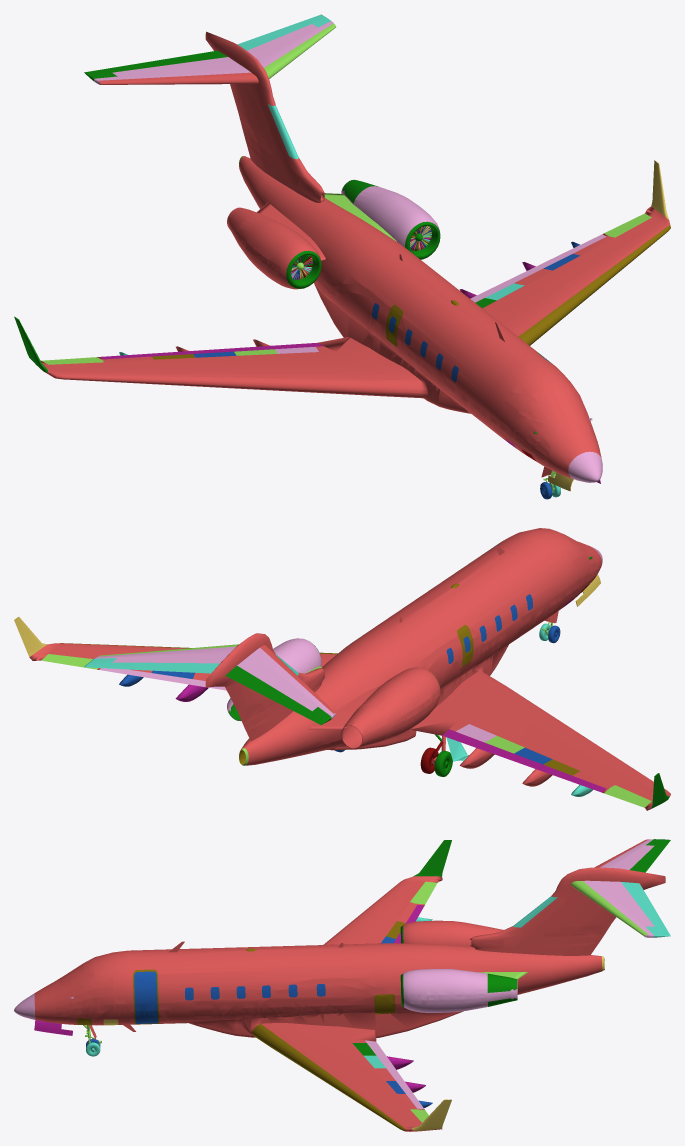
The model's file is lear_300.obj.
3 views of the same model, one above another, from view 1: azimuth 30°, elevation 25°; view 2: azimuth 150°, elevation 25°; view 3: azimuth 270°, elevation 25° (orthographic). The views are drawn at different scales.
Visible parts, largest first — view 1: Group_001, Group_021, Group_033, Group_080, Group_016, Group_097, Group_011, Group_025, Group_020, Group_019, Group_010, Group_034 (+3 smaller); view 2: Group_001, Group_021, Group_080, Group_016, Group_019, Group_034, Group_097, Group_017, Group_082, Group_078, Group_023, Group_012 (+5 smaller); view 3: Group_001, Group_021, Group_097, Group_016, Group_080, Group_025, Group_007, Group_011, Group_017, Group_012, Group_018, Group_032 (+4 smaller).
Boxes of the visible parts, bbox=[...] form: Group_001: bbox=[205, 31, 601, 478]; Group_021: bbox=[41, 206, 670, 380]; Group_033: bbox=[54, 374, 420, 397]; Group_080: bbox=[227, 210, 321, 289]; Group_016: bbox=[94, 21, 333, 84]; Group_097: bbox=[341, 179, 440, 247]; Group_011: bbox=[504, 379, 583, 426]; Group_025: bbox=[518, 225, 670, 345]; Group_020: bbox=[98, 72, 258, 84]; Group_019: bbox=[84, 50, 227, 81]; Group_010: bbox=[568, 451, 602, 482]; Group_034: bbox=[100, 343, 323, 359]; Group_001: bbox=[205, 528, 601, 765]; Group_021: bbox=[29, 643, 670, 810]; Group_080: bbox=[341, 667, 440, 748]; Group_016: bbox=[94, 646, 335, 718]; Group_019: bbox=[225, 666, 331, 724]; Group_034: bbox=[443, 729, 606, 792]; Group_097: bbox=[227, 638, 321, 720]; Group_017: bbox=[84, 658, 219, 673]; Group_082: bbox=[343, 705, 387, 748]; Group_078: bbox=[308, 686, 379, 729]; Group_023: bbox=[99, 668, 226, 690]; Group_012: bbox=[446, 594, 532, 664]; Group_001: bbox=[34, 867, 665, 1037]; Group_021: bbox=[261, 876, 442, 1131]; Group_097: bbox=[403, 969, 517, 1012]; Group_016: bbox=[583, 839, 654, 937]; Group_080: bbox=[403, 920, 487, 946]; Group_025: bbox=[252, 1024, 405, 1131]; Group_007: bbox=[134, 971, 158, 1023]; Group_011: bbox=[59, 961, 112, 990]; Group_017: bbox=[621, 882, 670, 937]; Group_012: bbox=[185, 984, 325, 1000]; Group_018: bbox=[571, 881, 648, 935]; Group_032: bbox=[413, 840, 451, 876].
Size of the model in its own units: 774 by 259 by 827.
